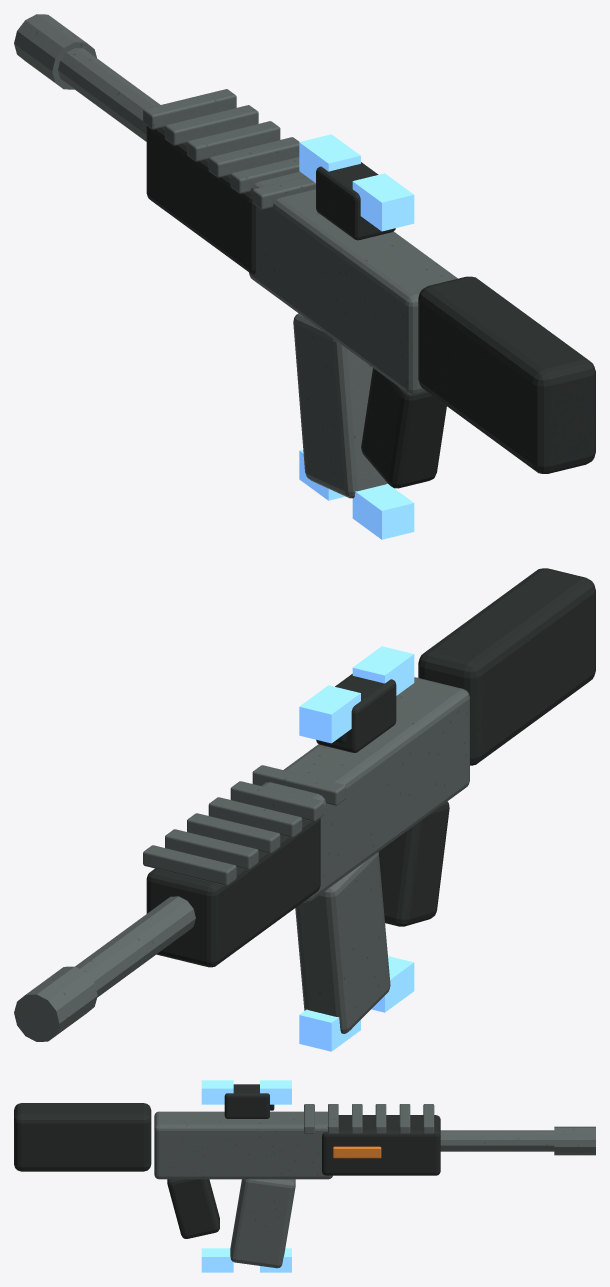
File: rifle_2.glb
The picture shows the model from 3 angles, top to bottom: view 1: azimuth 30°, elevation 25°; view 2: azimuth 150°, elevation 25°; view 3: azimuth 270°, elevation 25°; orthographic projection. The views are drawn at different scales.
Parts seen in each view (by area): view 1: Weapon_rifle, GRADE_2_RAIL_0_-1, GRADE_2_RAIL_0_1, GRADE_2_RAIL_1_1; view 2: Weapon_rifle, GRADE_2_RAIL_1_1, GRADE_2_RAIL_0_1, GRADE_2_RAIL_1_-1, GRADE_2_RAIL_0_-1; view 3: Weapon_rifle, GRADE_2_RAIL_0_-1, GRADE_2_RAIL_0_1, GRADE_2_RAIL_1_1, GRADE_2_RAIL_1_-1.
Part boxes in pixels (box(x1,y1,x2,y2)): Weapon_rifle: box(14, 14, 595, 498); GRADE_2_RAIL_0_-1: box(352, 483, 414, 539); GRADE_2_RAIL_0_1: box(352, 173, 414, 231); GRADE_2_RAIL_1_1: box(299, 134, 360, 182); Weapon_rifle: box(14, 568, 595, 1041); GRADE_2_RAIL_1_1: box(299, 685, 360, 743); GRADE_2_RAIL_0_1: box(352, 646, 414, 695); GRADE_2_RAIL_1_-1: box(299, 1009, 360, 1051); GRADE_2_RAIL_0_-1: box(371, 956, 414, 1012); Weapon_rifle: box(14, 1084, 595, 1268); GRADE_2_RAIL_0_-1: box(201, 1248, 233, 1272); GRADE_2_RAIL_0_1: box(201, 1080, 233, 1104); GRADE_2_RAIL_1_1: box(260, 1080, 291, 1104); GRADE_2_RAIL_1_-1: box(260, 1248, 291, 1272).
Bounding box in the file's own units: 0.09 × 0.3401 × 0.975.
5 materials, 4 textured.
